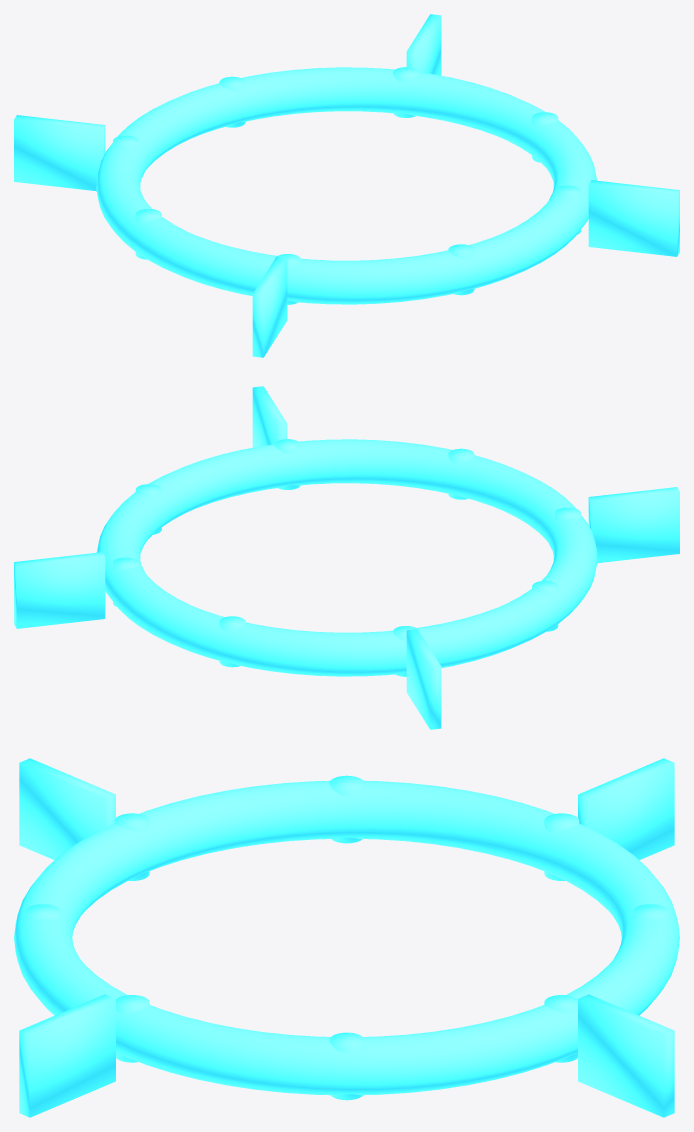
Rendered from space_ring_station_large.glb.
3 views of the same model, one above another, from view 1: azimuth 30°, elevation 25°; view 2: azimuth 150°, elevation 25°; view 3: azimuth 270°, elevation 25° (orthographic). The views are drawn at different scales.
Visible parts, largest first — view 1: SpaceRingStation_large; view 2: SpaceRingStation_large; view 3: SpaceRingStation_large.
Boxes of the visible parts, bbox=[...] form: SpaceRingStation_large: bbox=[14, 14, 679, 357]; SpaceRingStation_large: bbox=[14, 386, 679, 729]; SpaceRingStation_large: bbox=[14, 758, 679, 1117].
Size of the model in its own units: 548 by 75 by 548.
